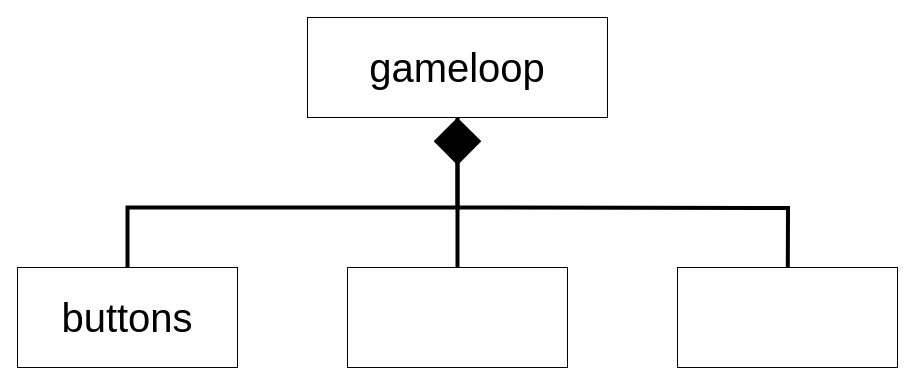
Some shapes in this 915 by 385 pixel diagram are drawn without their labels. Each missing label, with the centre of its shape:
bird: pixel 457 317
pillars: pixel 787 317
